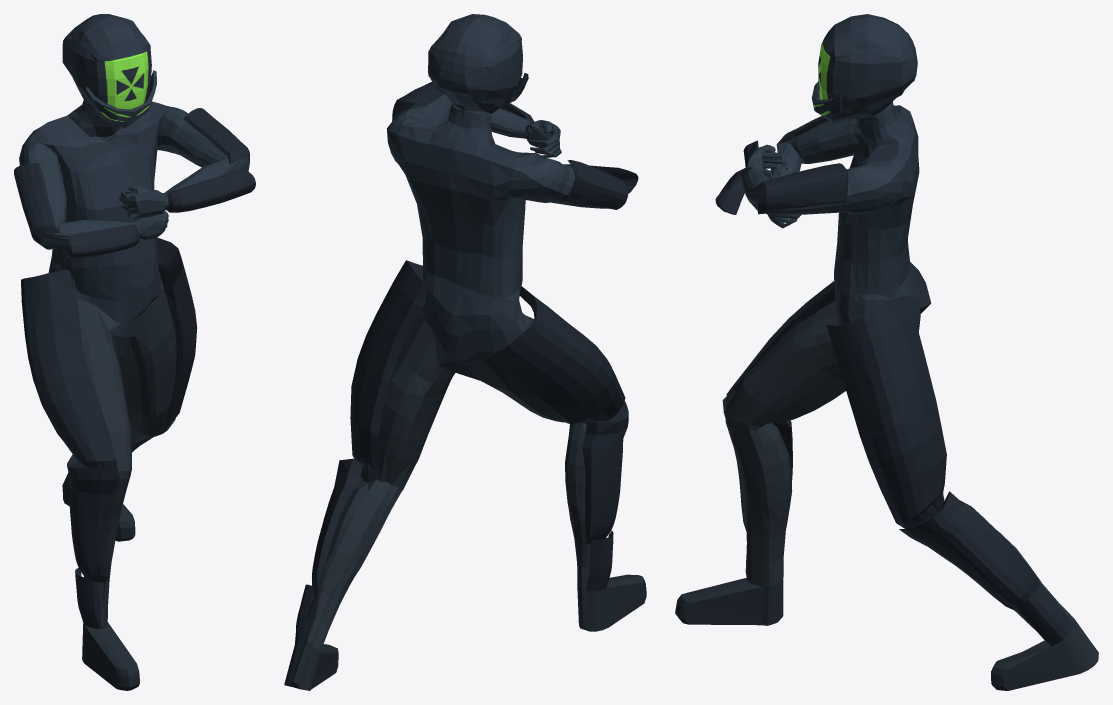
The model's file is Bastion_WL_000025.obj.
3 views of the same model, side by side, from view 1: azimuth 30°, elevation 25°; view 2: azimuth 150°, elevation 25°; view 3: azimuth 270°, elevation 25° (orthographic). The views are drawn at different scales.
Visible parts, largest first — view 1: Cube.002; view 2: Cube.002; view 3: Cube.002.
Boxes of the visible parts, x1,y1,x2,y2 form: Cube.002: (14,14,255,690); Cube.002: (284,14,646,690); Cube.002: (675,14,1098,690).
Size of the model in its own units: 1.33 by 3.58 by 2.16.
